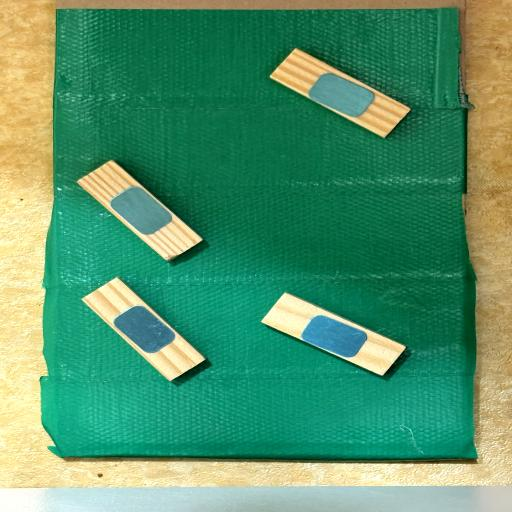objects: (76, 151, 204, 270), (82, 270, 206, 389), (269, 43, 411, 143), (260, 288, 405, 381)
